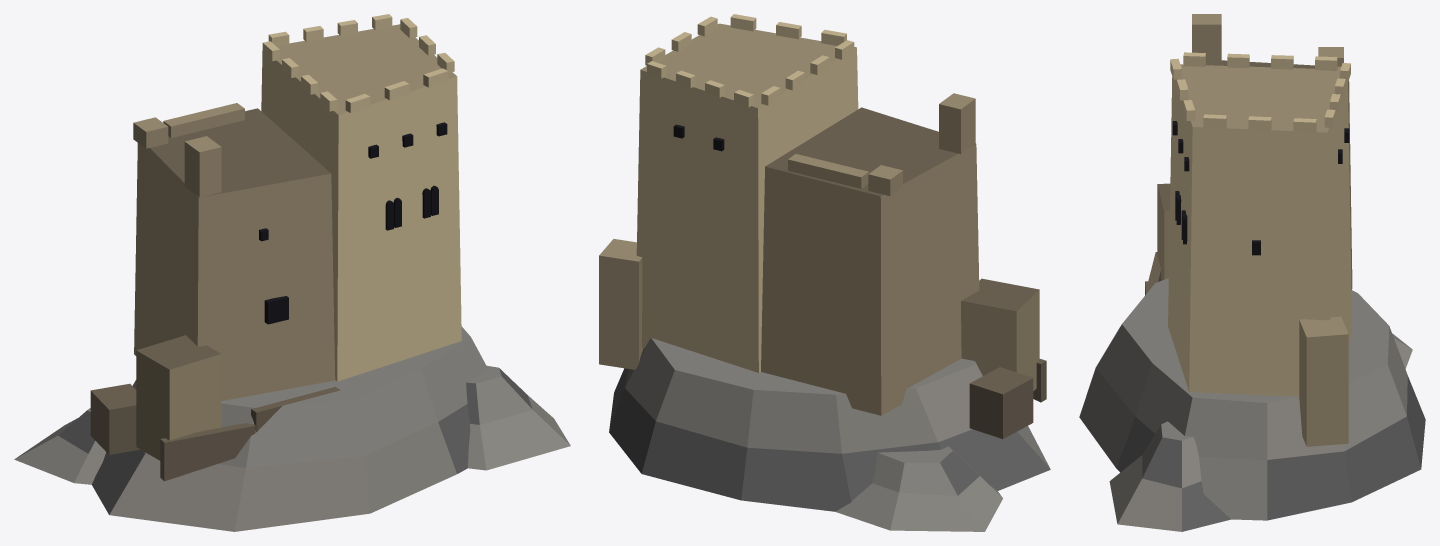
File: scaletta.glb
3 renders of one model, left to right at view 1: azimuth 30°, elevation 25°; view 2: azimuth 150°, elevation 25°; view 3: azimuth 270°, elevation 25°, orthographic.
Parts seen in each view (by area): view 1: POI_scaletta; view 2: POI_scaletta; view 3: POI_scaletta.
Boxes of the visible parts, left/top/right/bottom form: POI_scaletta: left=14, top=14, right=570, bottom=531; POI_scaletta: left=599, top=14, right=1050, bottom=531; POI_scaletta: left=1079, top=14, right=1425, bottom=531.
Size of the model in its own units: 72.62 by 57.6 by 48.78.
